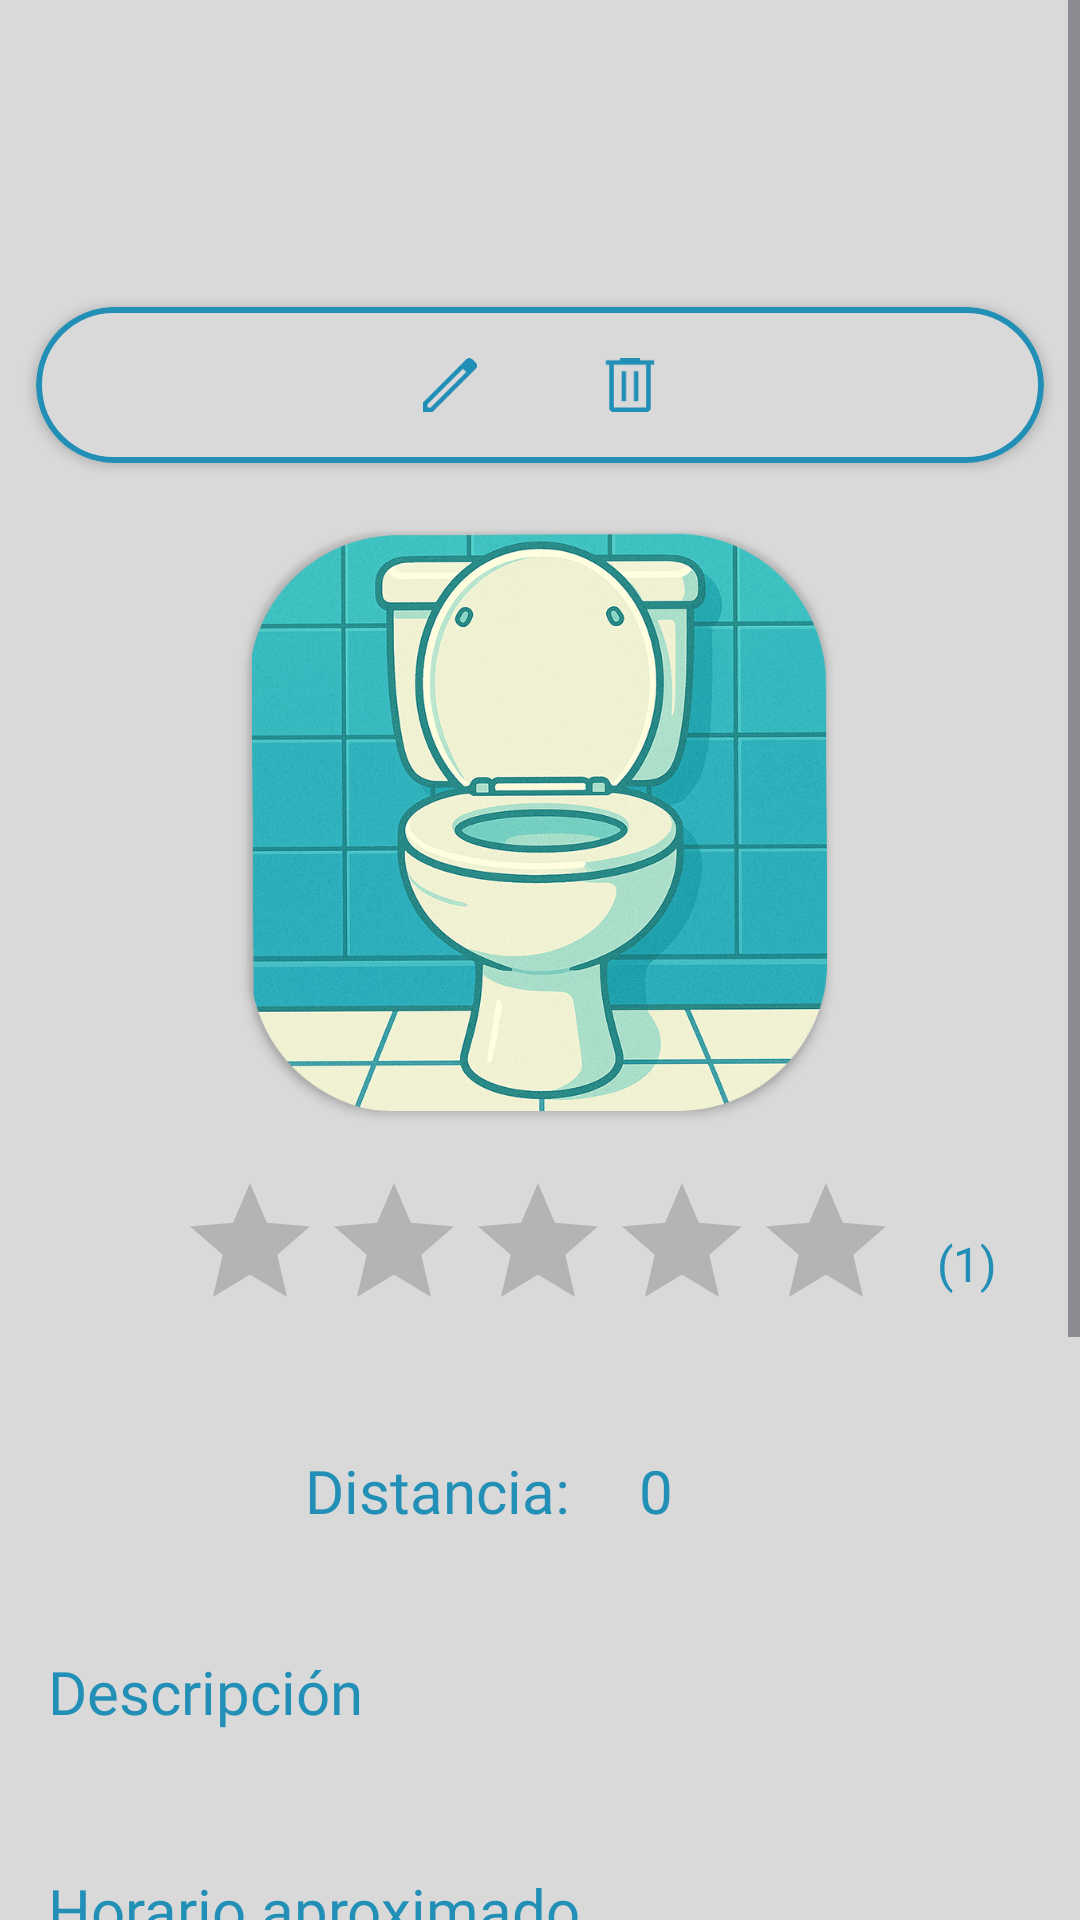

Point at icon controls on the screen. Image size 1080w x 1920h, points as point (x, y).
Borrar: point (630, 385)
Editar: point (450, 385)
